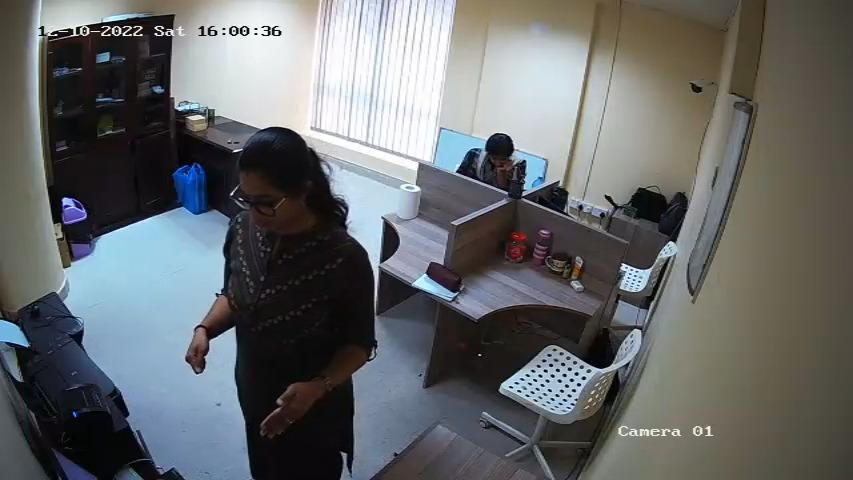no_gloves: (256, 376, 327, 444), (184, 327, 209, 375)
